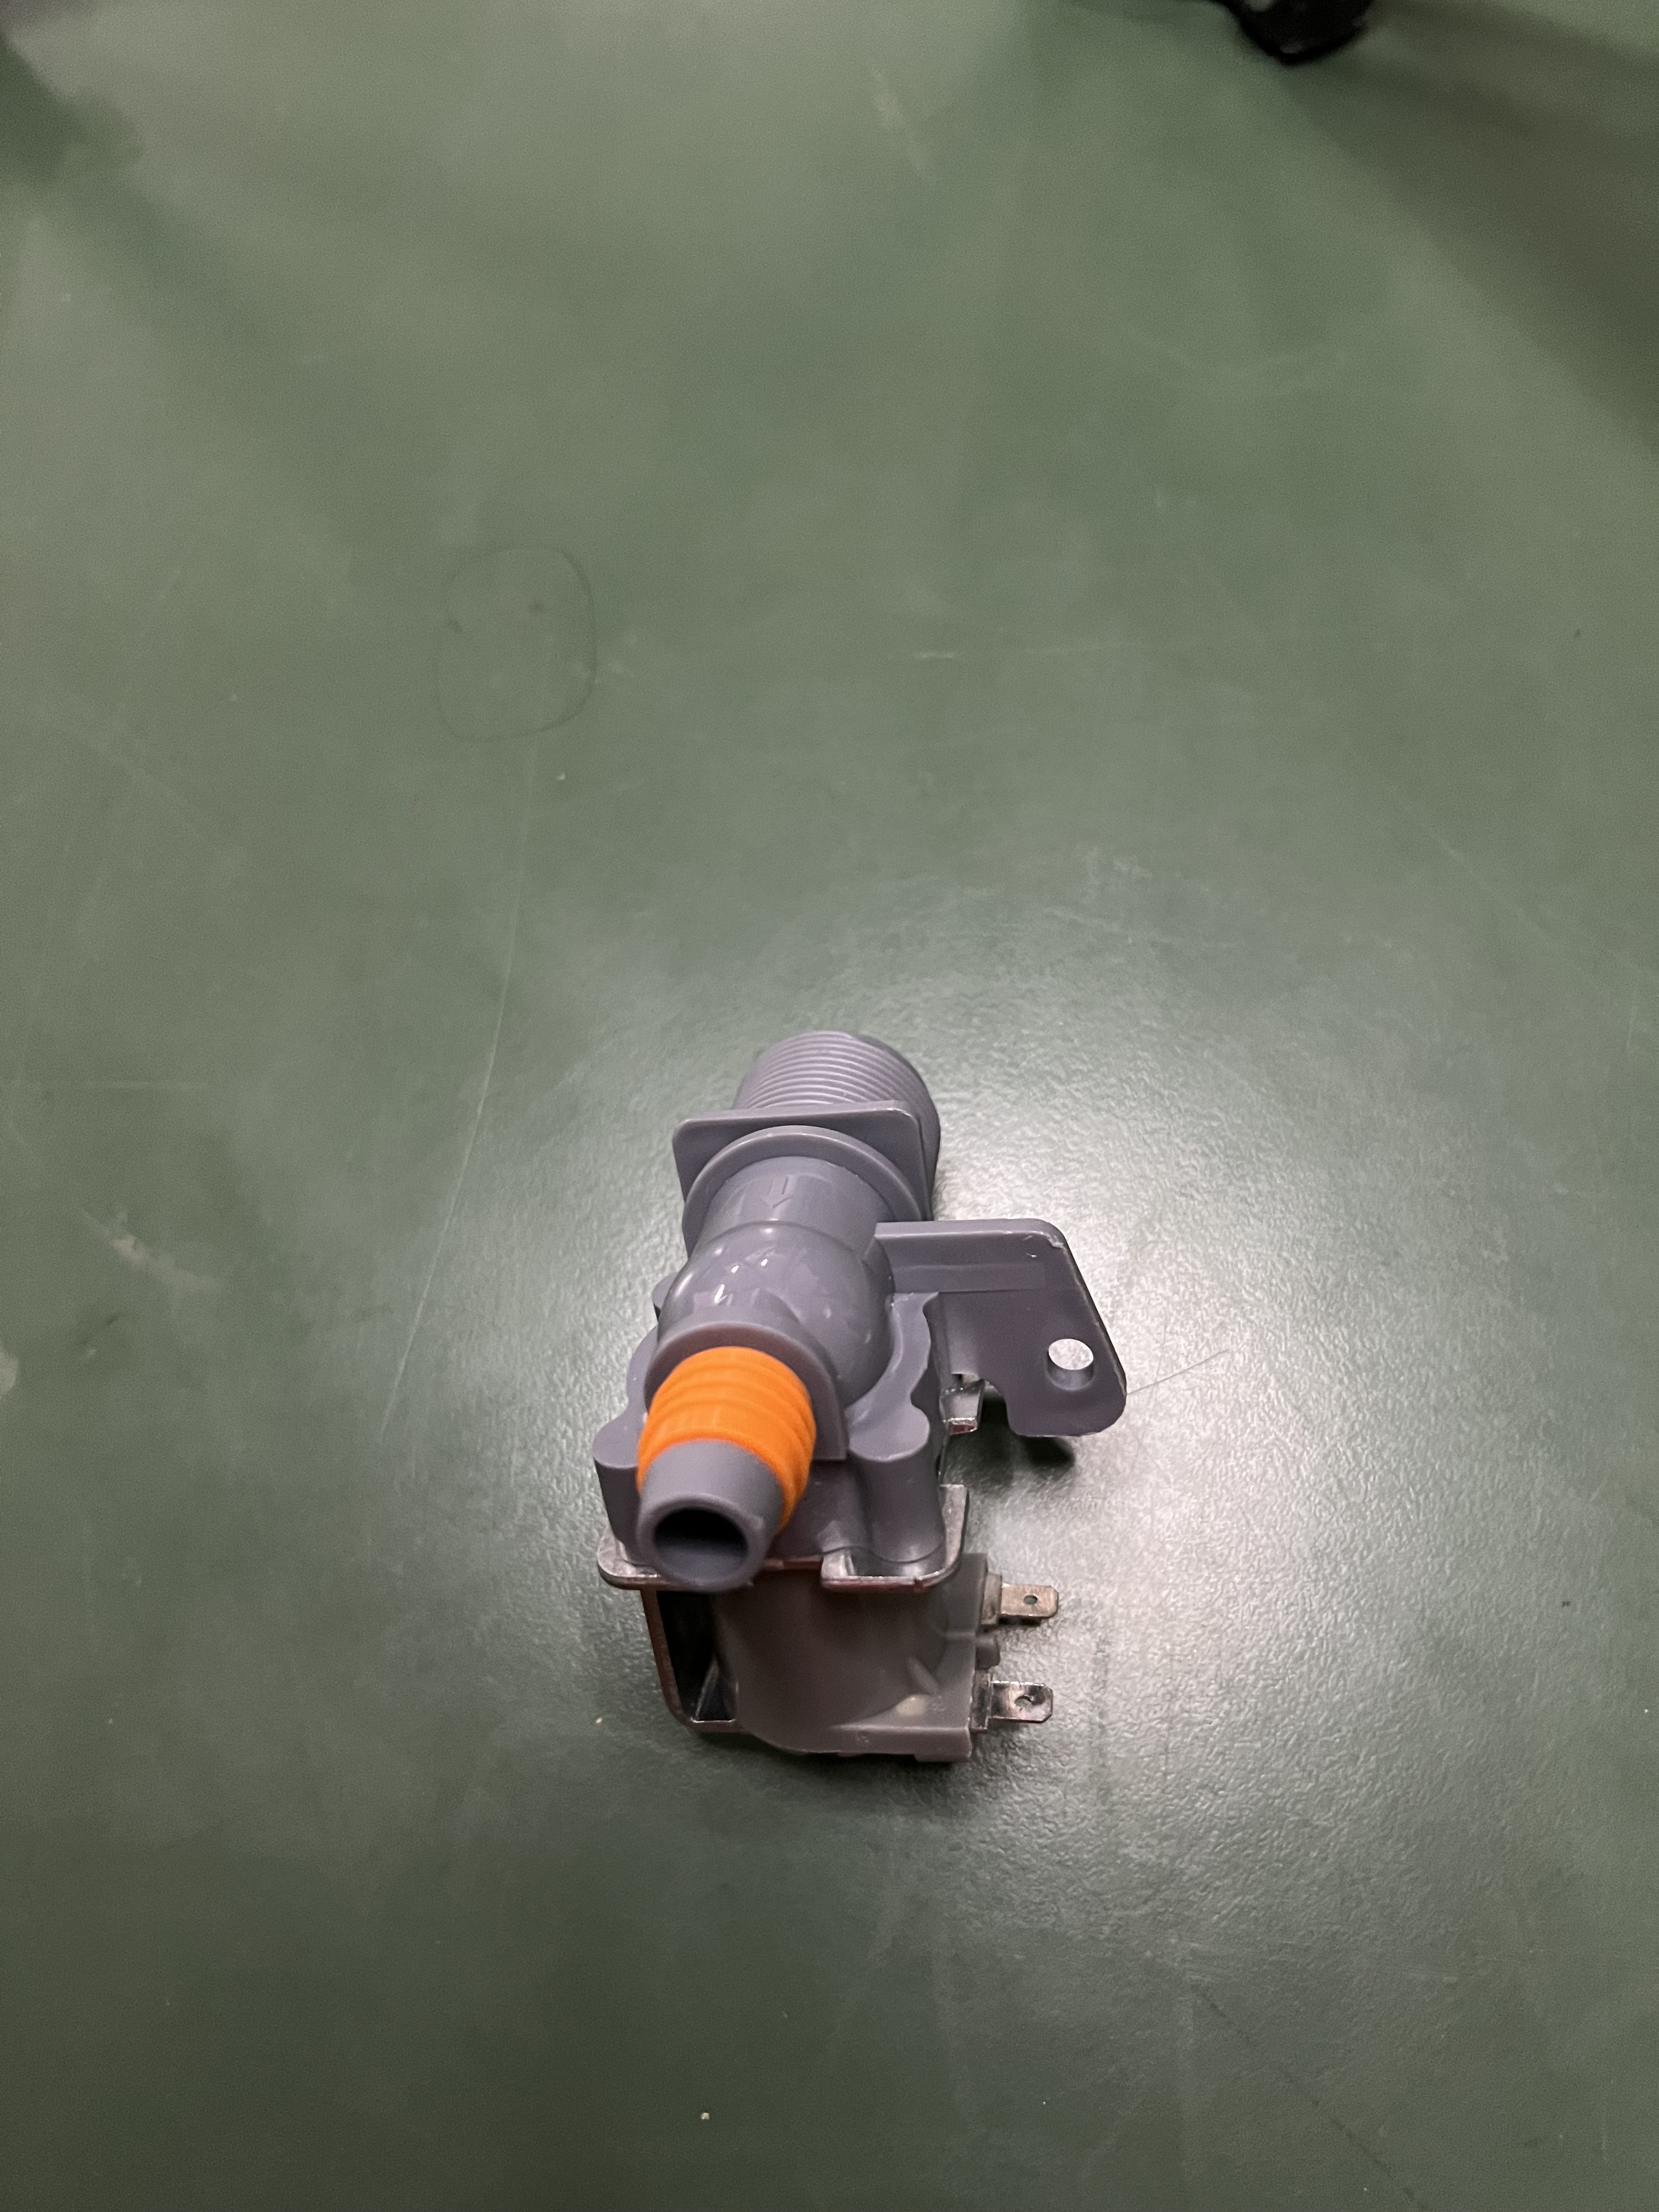inlet_valves: (587, 1015, 1134, 1784)
